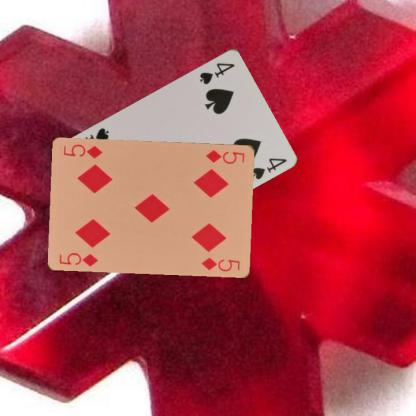4s: (197, 60, 236, 86)
5d: (57, 249, 100, 268), (204, 146, 246, 164)
